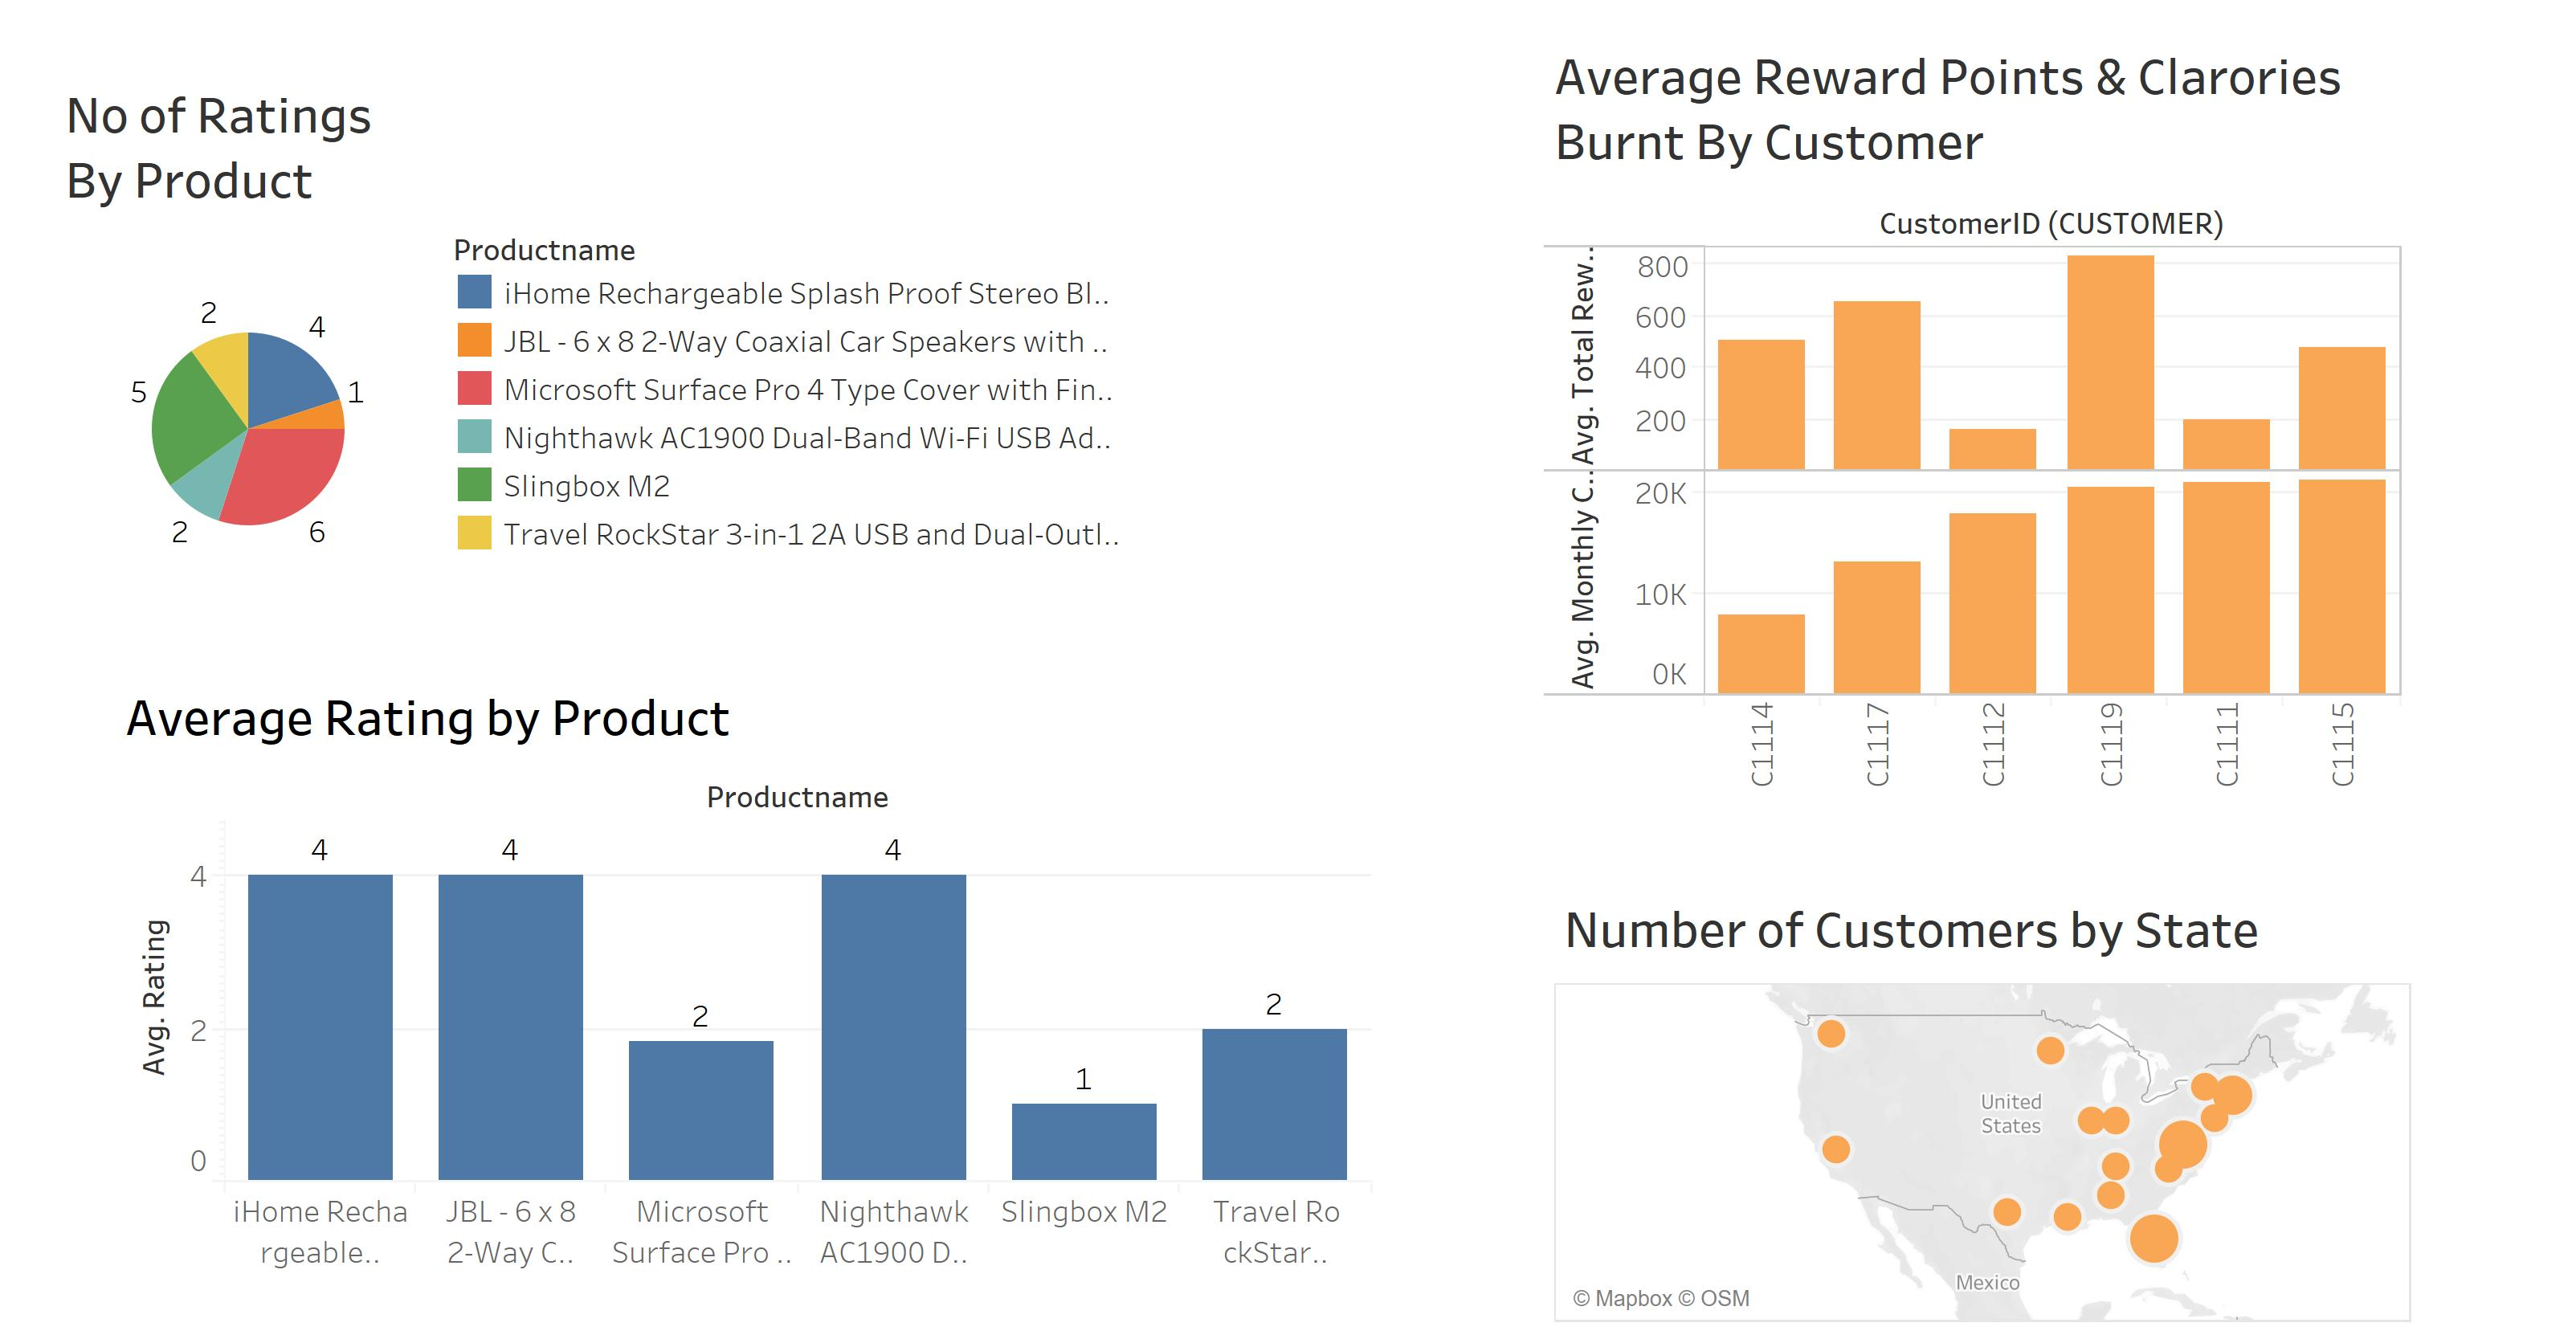

The page's visual inventory and layout, read from the dashboard file:
{"tool":"tableau","page":{"name":"Dashboard 1","canvas":[1000,1000],"units":"permille","ordinal":0},"visuals":[{"type":"worksheet","title":"Sheet 4","mark":"Automatic","rows":["Total_Rewards_Points","Monthly_Calories_Burnt"],"cols":["CustomerID (CUSTOMER)"],"box":[599.6,19.9,333,574]},{"type":"worksheet","title":"Sheet 1","mark":"Pie","box":[21.5,48.7,341.4,444]},{"type":"legend","title":"Sheet 1","param":"[federated.0m1vnzh0cd0jtz103nmo01x4fgl3].[none:Productname:nk]","box":[174.9,167.9,261.9,249.1]},{"type":"worksheet","title":"Sheet 2","mark":"Automatic","rows":["Rating"],"cols":["Productname"],"box":[44.9,500,487.4,456.7]},{"type":"worksheet","title":"Sheet 3","mark":"Automatic","box":[603.4,658.8,333,332.1]}]}

Visuals, with their boxes on the dashboard's canvas, which has no fixed pixel size, in thousandths of its width and height (x1, y1, x2, y2). These are canvas units, not pixel positions in the 2576x1335 screenshot, which may show the page scaled, cropped or inside an application window:
"Sheet 4" worksheet: (left=600, top=20, right=933, bottom=594)
"Sheet 1" worksheet (Pie marks): (left=22, top=49, right=363, bottom=493)
"Sheet 1" legend: (left=175, top=168, right=437, bottom=417)
"Sheet 2" worksheet: (left=45, top=500, right=532, bottom=957)
"Sheet 3" worksheet: (left=603, top=659, right=936, bottom=991)
